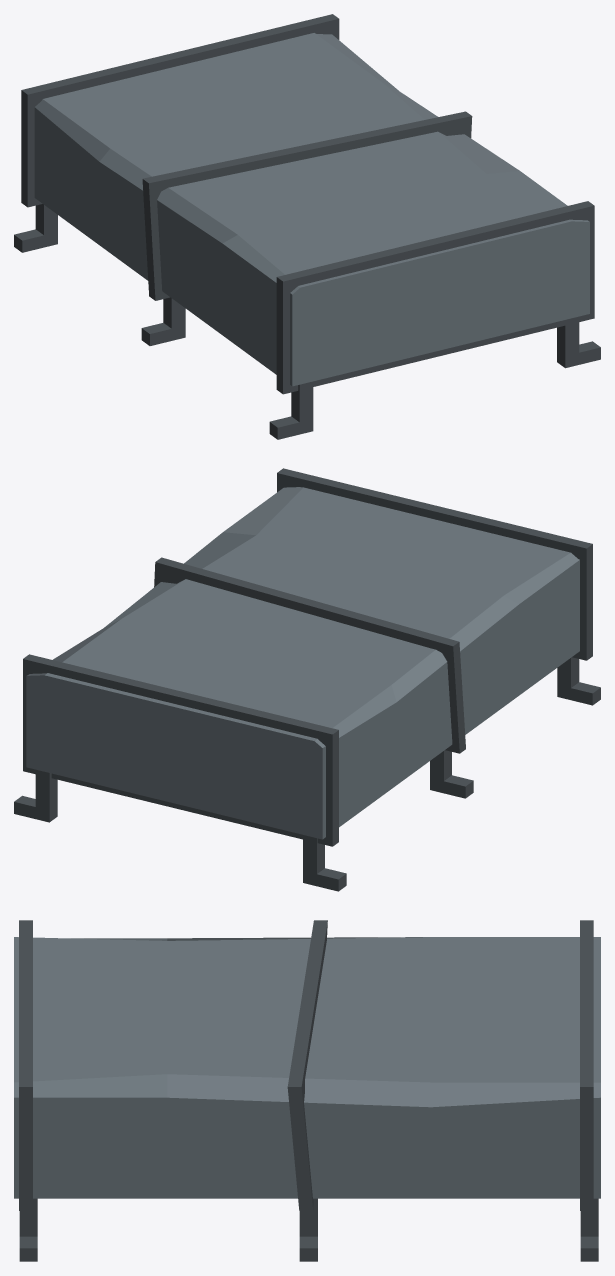
The model's file is SM_Prop_Vents_Wide_01.fbx.
The picture shows the model from 3 angles, top to bottom: view 1: azimuth 30°, elevation 25°; view 2: azimuth 150°, elevation 25°; view 3: azimuth 270°, elevation 25°; orthographic projection. The views are drawn at different scales.
Visible parts, largest first — view 1: SM_Prop_Vents_Wide_01; view 2: SM_Prop_Vents_Wide_01; view 3: SM_Prop_Vents_Wide_01.
Boxes of the visible parts, box(x1,y1,x2,y2) form: SM_Prop_Vents_Wide_01: box(14, 14, 600, 439); SM_Prop_Vents_Wide_01: box(14, 468, 600, 891); SM_Prop_Vents_Wide_01: box(14, 920, 600, 1261).
Size of the model in its own units: 175 by 80.35 by 250.
